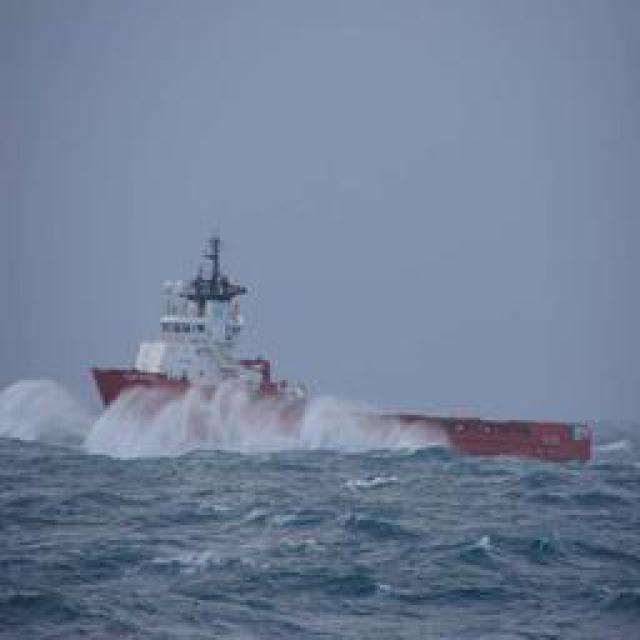Ship: (90, 226, 607, 472)
